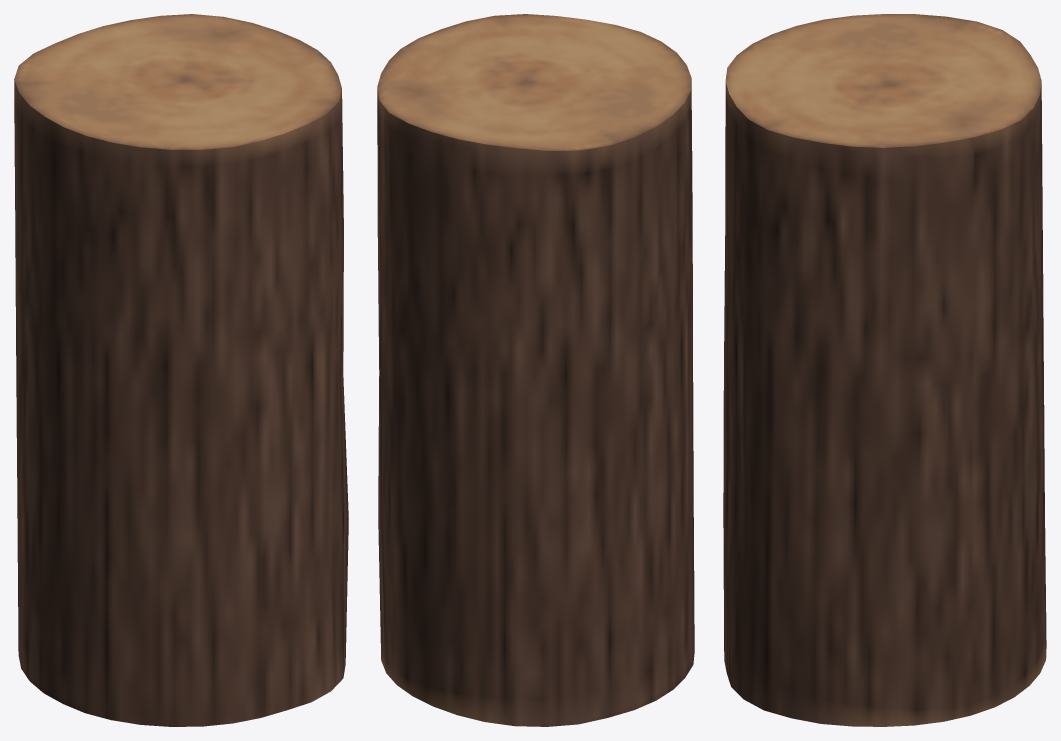
Rendered from log.glb.
3 renders of one model, left to right at view 1: azimuth 30°, elevation 25°; view 2: azimuth 150°, elevation 25°; view 3: azimuth 270°, elevation 25°, orthographic.
Parts seen in each view (by area): view 1: Cylinder; view 2: Cylinder; view 3: Cylinder.
Part boxes in pixels (box(x1,y1,x2,y2)): Cylinder: box(14, 14, 348, 726); Cylinder: box(377, 14, 694, 726); Cylinder: box(723, 14, 1046, 726).
Size of the model in its own units: 0.7446 by 1.5 by 0.756.
1 material, 1 textured.
